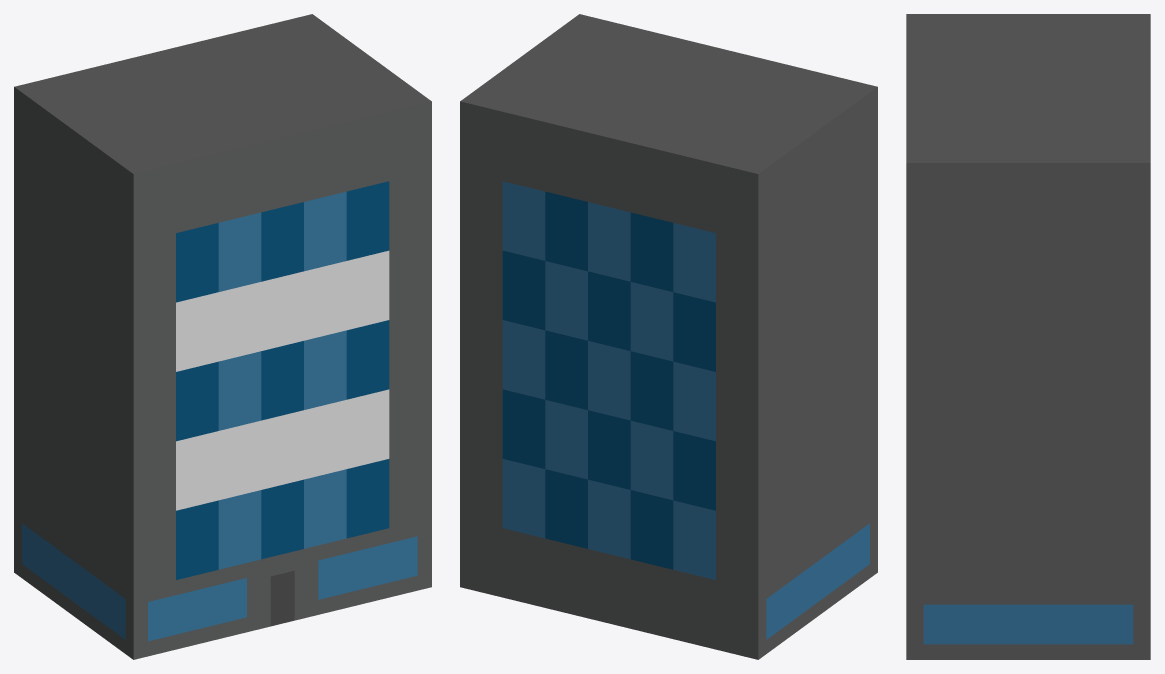
Rendered from Edificio1.fbx.
The picture shows the model from 3 angles, left to right: view 1: azimuth 30°, elevation 25°; view 2: azimuth 150°, elevation 25°; view 3: azimuth 270°, elevation 25°; orthographic projection. The views are drawn at different scales.
Visible parts, largest first — view 1: Cube; view 2: Cube; view 3: Cube.
Boxes of the visible parts, x1,y1,x2,y2 form: Cube: (14,14,431,659); Cube: (460,14,877,659); Cube: (906,14,1150,659).
Size of the model in its own units: 289 by 449 by 200.
